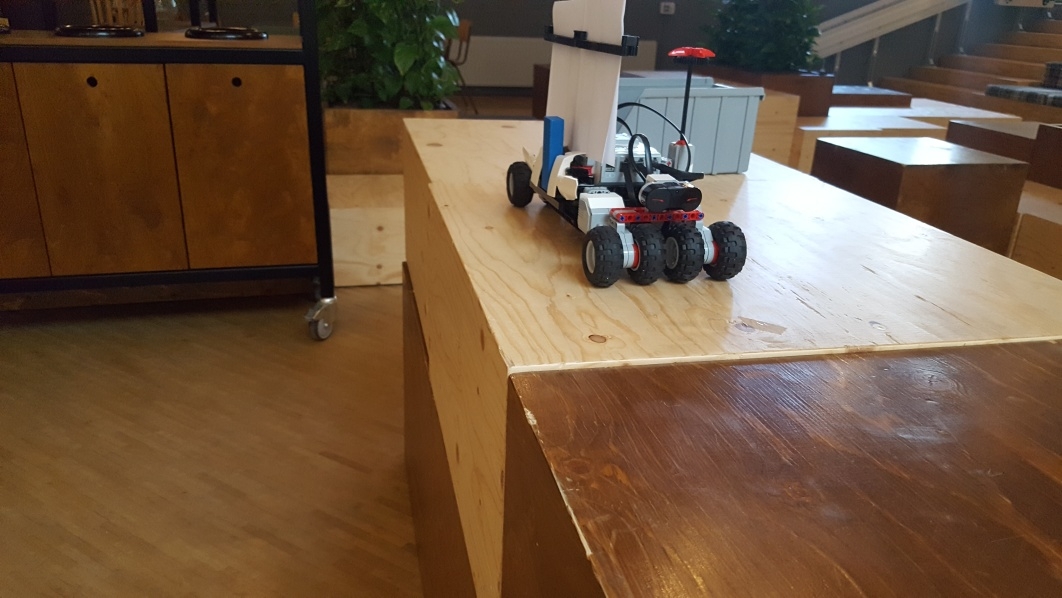car: (507, 2, 747, 288)
